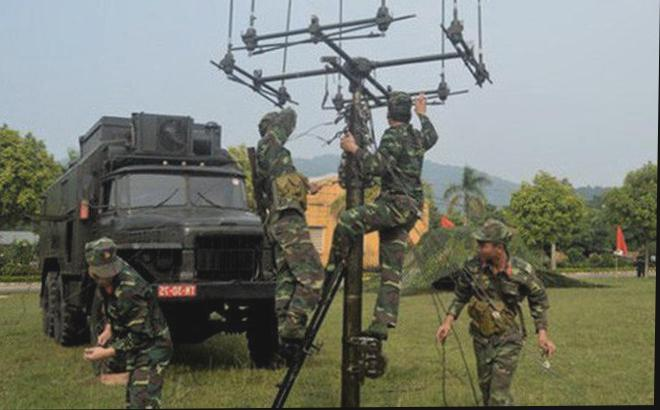License_Plate: (155, 282, 201, 300)
